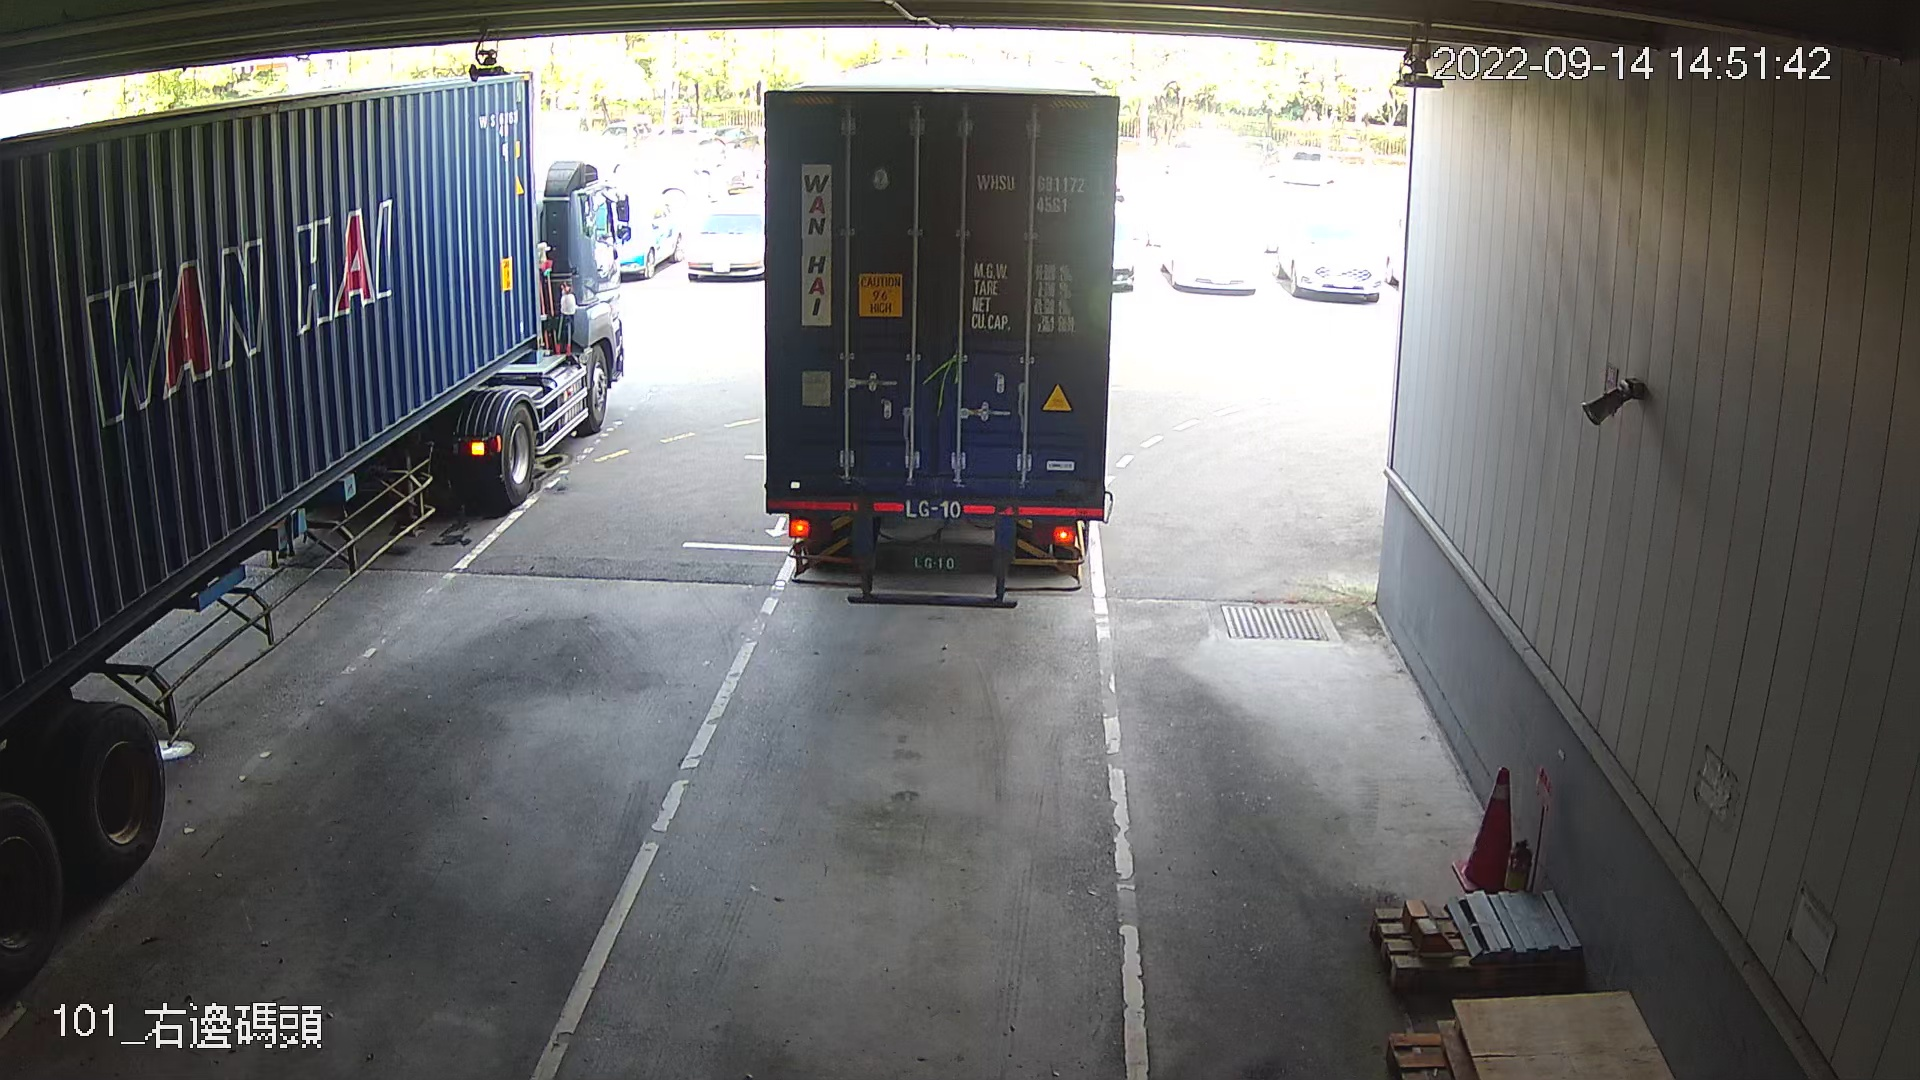container: (969, 164, 1112, 220)
